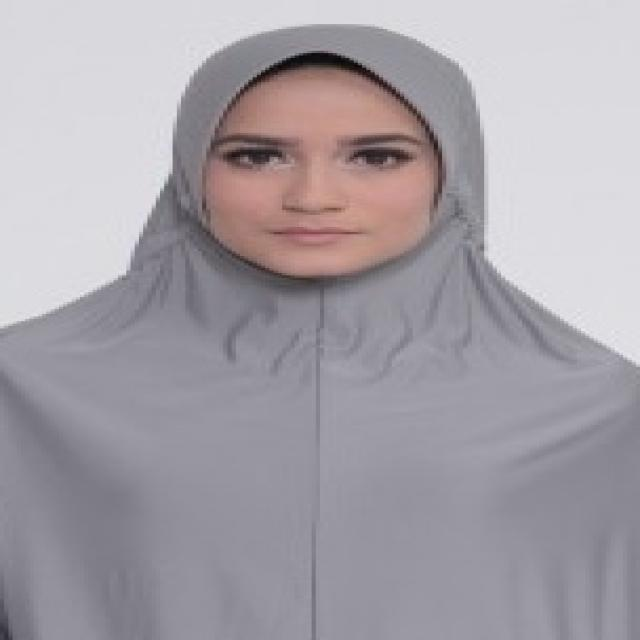head: (177, 26, 491, 286)
